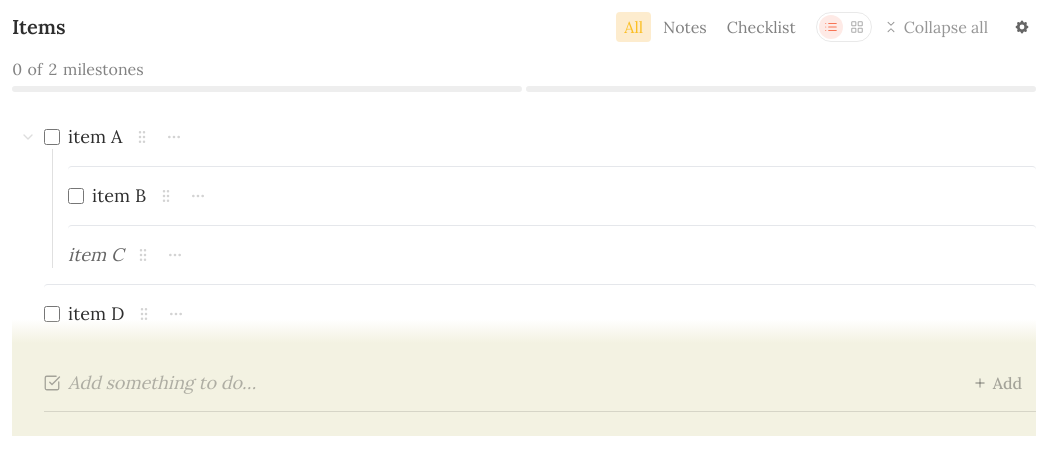
Test case: Todo guide rail › should render children at top level with no rail when the filter hides their parent
The width and height of the screenshot is (1048, 453).
Expected: the text "item A" is shown, left=68, top=124, right=122, bottom=150
Click the button "Notes".
click(685, 27)  # box left=655, top=12, right=715, bottom=42
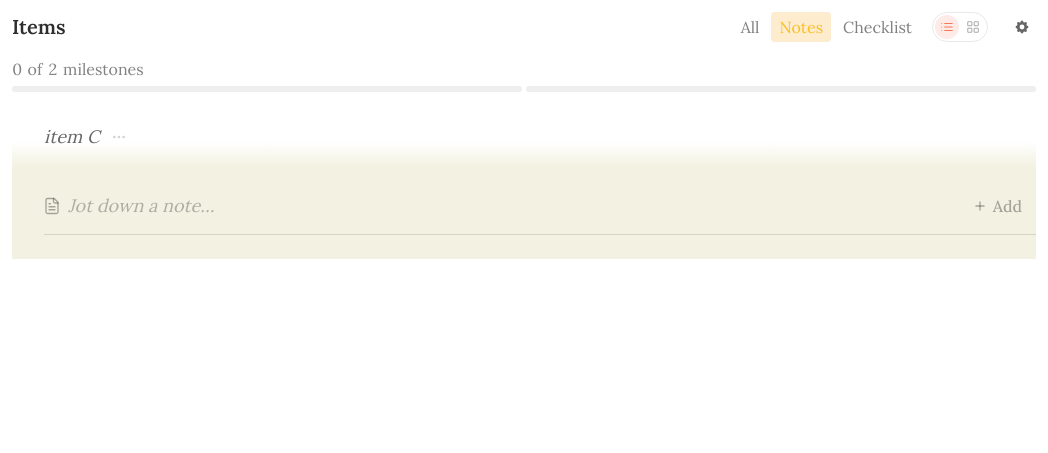
Expected: the text "item C" is shown, left=44, top=124, right=100, bottom=150
Expected: the text "item A" is gone
